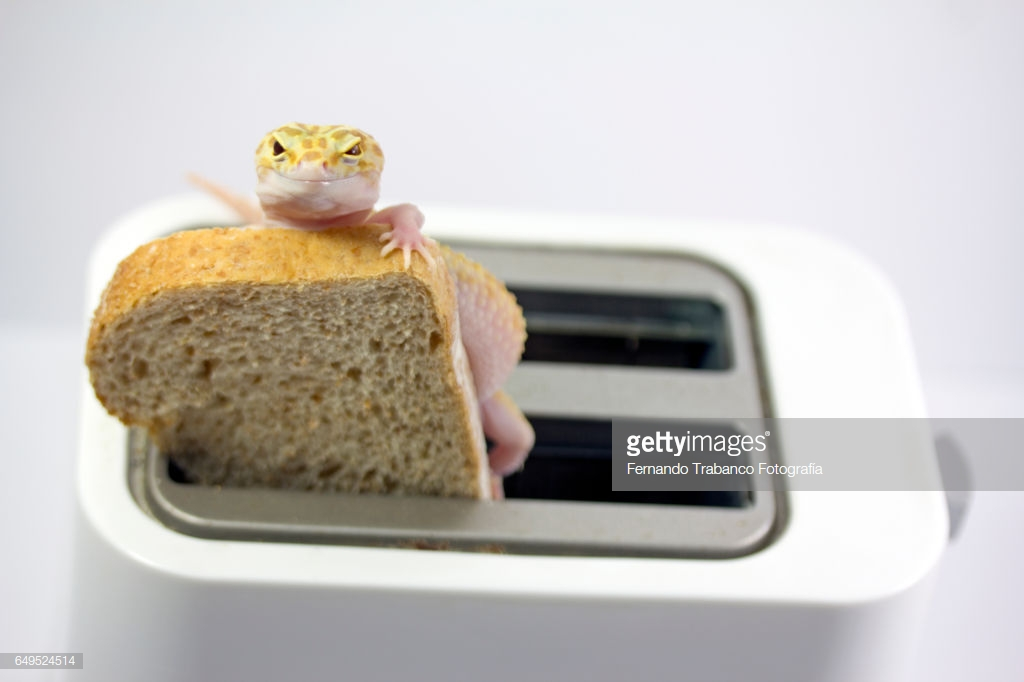slice of bread: (99, 251, 501, 495)
